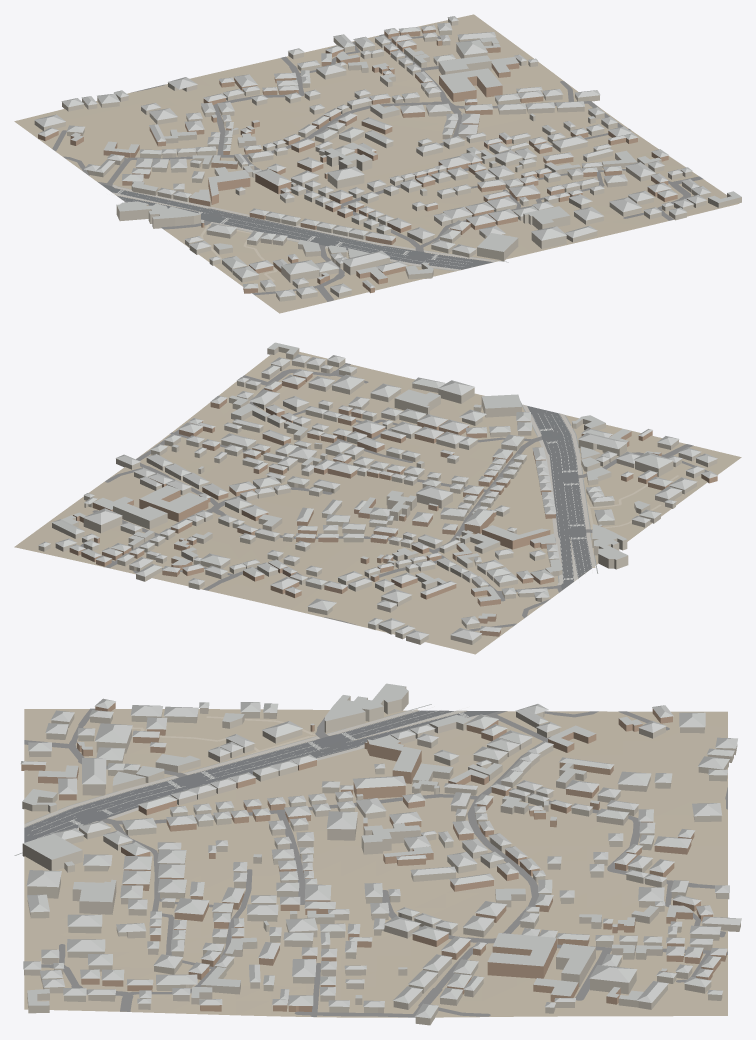
File: bolak_1_0.glb
3 renders of one model, top to bottom at view 1: azimuth 30°, elevation 25°; view 2: azimuth 150°, elevation 25°; view 3: azimuth 270°, elevation 25°, orthographic. The views are drawn at different scales.
Visible parts, largest first — view 1: Yer_Tuproq-col, Tom_Shifer, Devor_Suvoq-col, Devor_Gisht-col, Yol_Mahalla-col, Yol_Asfalt-col, Trotuar; view 2: Yer_Tuproq-col, Tom_Shifer, Devor_Suvoq-col, Devor_Gisht-col, Yol_Asfalt-col, Yol_Mahalla-col, Trotuar, Yol_Chiziq; view 3: Yer_Tuproq-col, Tom_Shifer, Devor_Suvoq-col, Devor_Gisht-col, Yol_Mahalla-col, Yol_Asfalt-col, Trotuar, Yol_Chiziq.
Boxes of the visible parts, x1,y1,x2,y2 form: Yer_Tuproq-col: (14, 14, 738, 313); Tom_Shifer: (34, 16, 741, 297); Devor_Suvoq-col: (34, 18, 741, 301); Devor_Gisht-col: (38, 28, 677, 293); Yol_Mahalla-col: (52, 34, 702, 301); Yol_Asfalt-col: (101, 184, 493, 269); Trotuar: (97, 181, 497, 270); Yer_Tuproq-col: (14, 351, 741, 654); Tom_Shifer: (38, 342, 717, 640); Devor_Suvoq-col: (38, 346, 717, 644); Devor_Gisht-col: (69, 373, 717, 636); Yol_Asfalt-col: (527, 406, 591, 590); Yol_Mahalla-col: (80, 363, 707, 630); Trotuar: (522, 404, 595, 592); Yol_Chiziq: (532, 414, 592, 582); Yer_Tuproq-col: (24, 709, 727, 1017); Tom_Shifer: (20, 683, 741, 1018); Devor_Suvoq-col: (22, 687, 740, 1025); Devor_Gisht-col: (21, 702, 726, 1011); Yol_Mahalla-col: (24, 708, 727, 1017); Yol_Asfalt-col: (24, 710, 498, 842); Trotuar: (24, 710, 488, 829); Yol_Chiziq: (25, 706, 468, 838).
Size of what is drawn, in the model's own units: 430 by 18.31 by 414.
